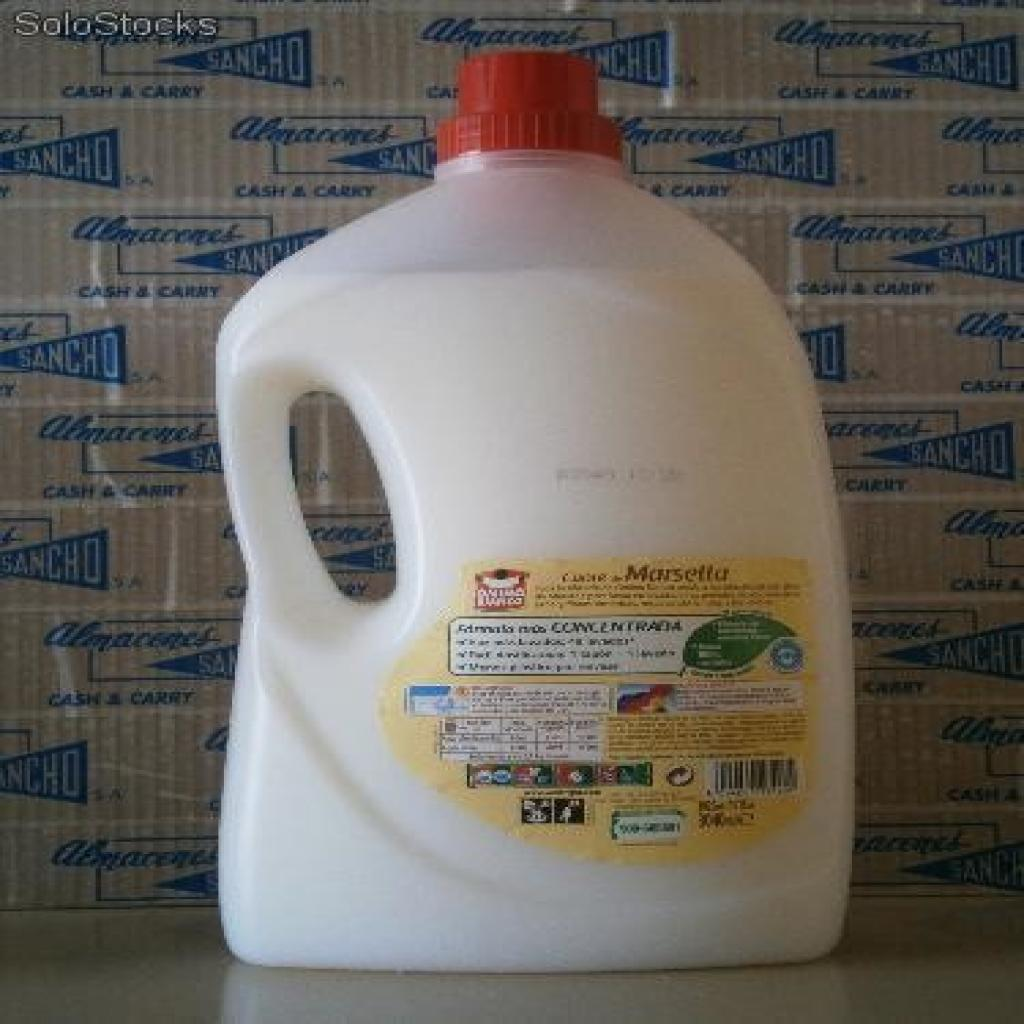organico: (198, 35, 878, 990)
